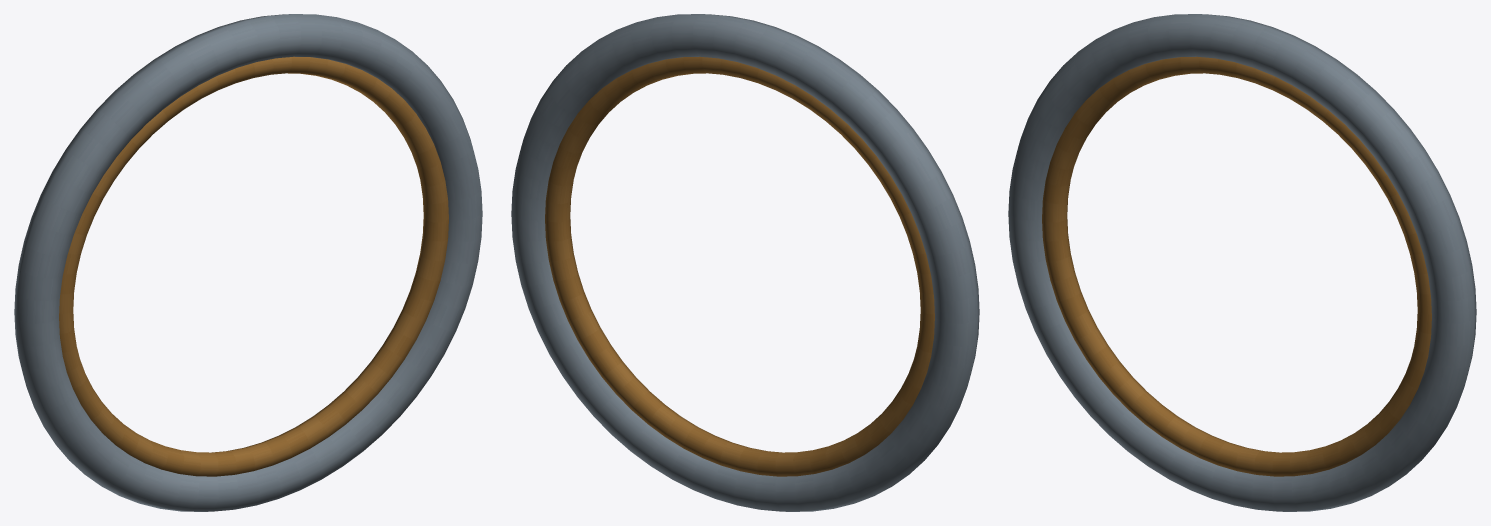
The model's file is chakram.glb.
3 views of the same model, side by side, from view 1: azimuth 30°, elevation 25°; view 2: azimuth 150°, elevation 25°; view 3: azimuth 330°, elevation 25° (orthographic).
Visible parts, largest first — view 1: steel.0, brass.1; view 2: steel.0, brass.1; view 3: steel.0, brass.1.
Part boxes in pixels (x1=…): steel.0: x1=14, y1=14, x2=482, y2=511; brass.1: x1=59, y1=56, x2=448, y2=476; steel.0: x1=511, y1=14, x2=979, y2=511; brass.1: x1=545, y1=56, x2=934, y2=476; steel.0: x1=1008, y1=14, x2=1476, y2=511; brass.1: x1=1042, y1=56, x2=1431, y2=476.
Bounding box in the file's own units: 0.394 × 0.394 × 0.034.
2 materials, 2 textured.
